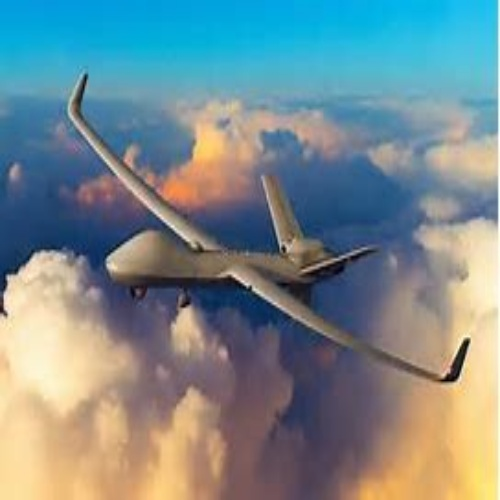uav: (65, 69, 471, 385)
